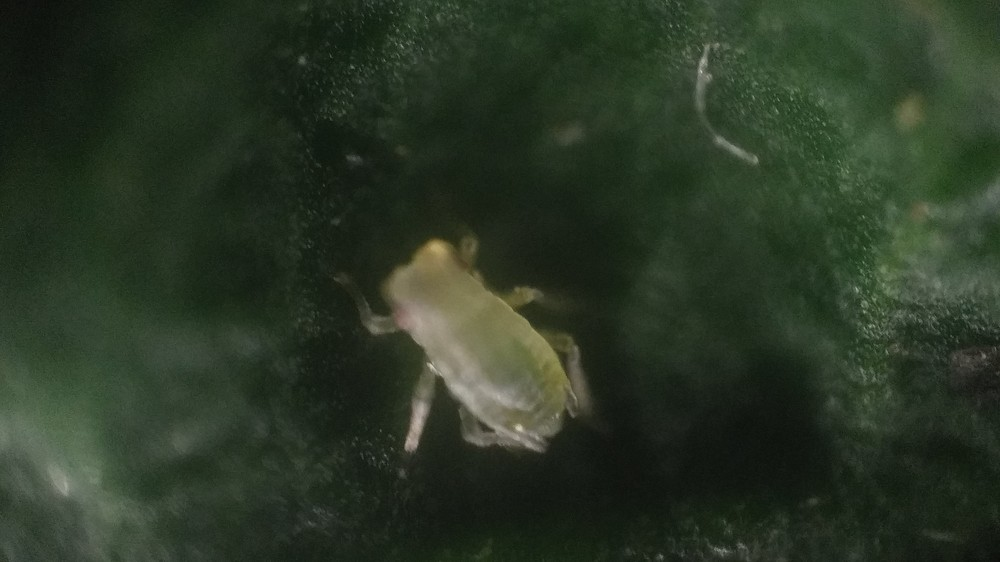Pulgon: (319, 217, 666, 481)
